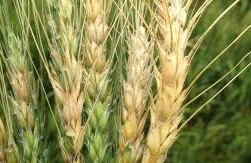Wheat scab: (81, 3, 117, 162)
